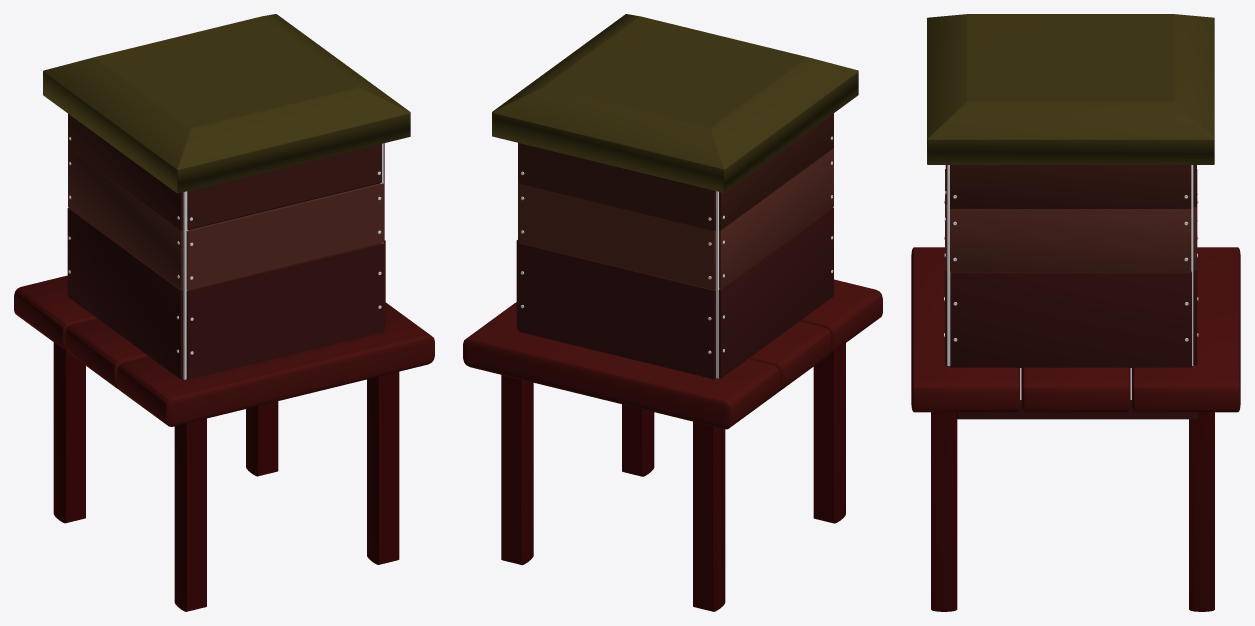
File: HoneyBase2 (2).fbx
The picture shows the model from 3 angles, left to right: view 1: azimuth 30°, elevation 25°; view 2: azimuth 150°, elevation 25°; view 3: azimuth 270°, elevation 25°; orthographic projection. The views are drawn at different scales.
Parts seen in each view (by area): view 1: Cube.018, Cube.002; view 2: Cube.018, Cube.002; view 3: Cube.018, Cube.002.
Part boxes in pixels (<box>): Cube.018: <box>14,114,434,611</box>; Cube.002: <box>43,14,410,193</box>; Cube.018: <box>463,113,882,611</box>; Cube.002: <box>492,14,858,192</box>; Cube.018: <box>911,165,1240,611</box>; Cube.002: <box>927,14,1214,164</box>.
Bounding box in the file's own units: 200 × 332 × 199.
